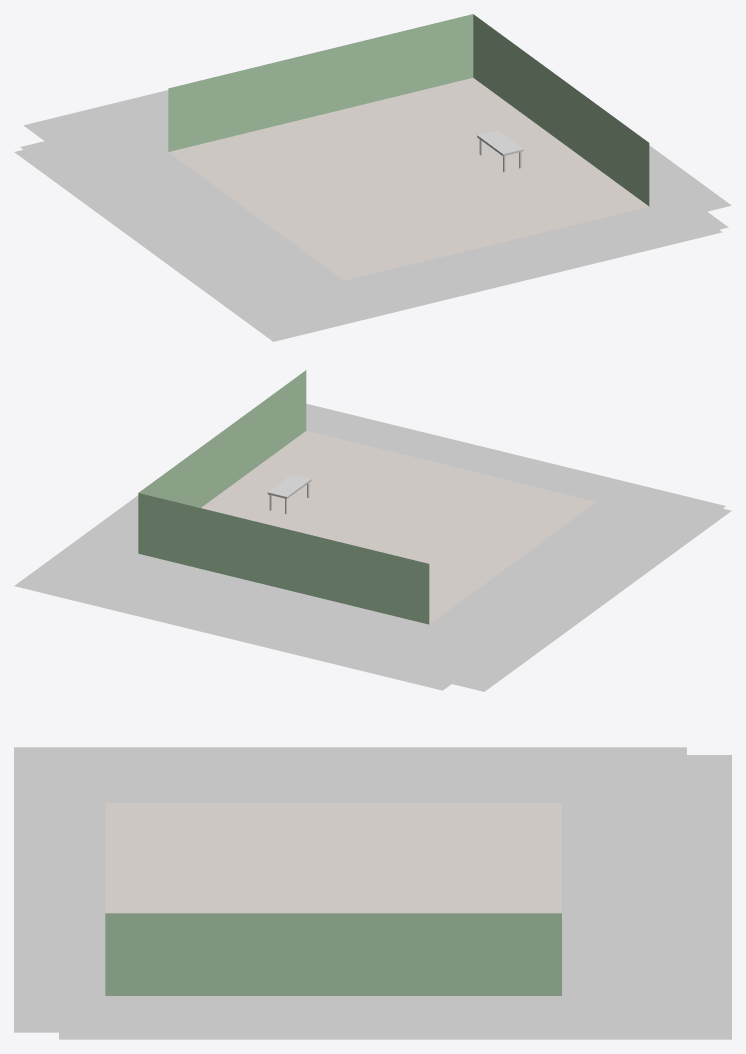
The model's file is space-3.glb.
3 renders of one model, top to bottom at view 1: azimuth 30°, elevation 25°; view 2: azimuth 150°, elevation 25°; view 3: azimuth 270°, elevation 25°, orthographic. The views are drawn at different scales.
Parts seen in each view (by area): view 1: 평면, 1층, 2층, 3층, 책상; view 2: 평면, 1층, 2층, 3층, 책상; view 3: 1층, 평면, 2층.
Part boxes in pixels (x1=…): 평면: x1=168, y1=14, x2=649, y2=280; 1층: x1=23, y1=90, x2=731, y2=315; 2층: x1=20, y1=141, x2=728, y2=336; 3층: x1=14, y1=149, x2=722, y2=341; 책상: x1=477, y1=130, x2=523, y2=172; 평면: x1=138, y1=370, x2=596, y2=624; 1층: x1=14, y1=416, x2=689, y2=690; 2층: x1=306, y1=403, x2=725, y2=687; 3층: x1=452, y1=508, x2=731, y2=691; 책상: x1=267, y1=474, x2=311, y2=514; 1층: x1=59, y1=755, x2=731, y2=1039; 평면: x1=105, y1=803, x2=561, y2=995; 2층: x1=14, y1=747, x2=686, y2=1031.
Size of the model in its own units: 212 by 31.06 by 213.
